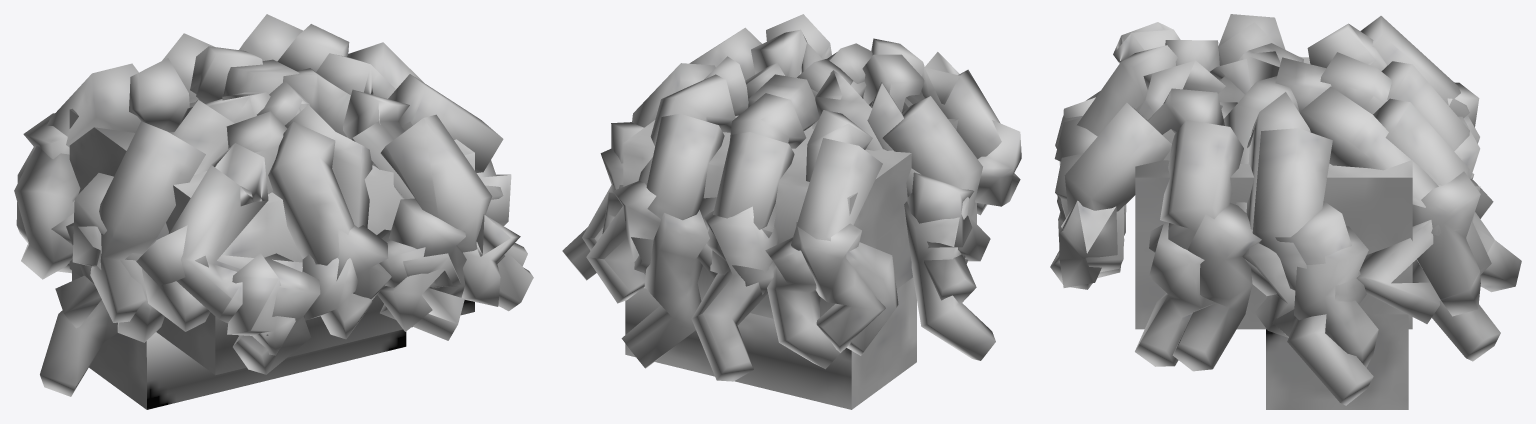
Rendered from Head_C1.fbx.
3 renders of one model, left to right at view 1: azimuth 30°, elevation 25°; view 2: azimuth 150°, elevation 25°; view 3: azimuth 270°, elevation 25°, orthographic. The views are drawn at different scales.
Parts seen in each view (by area): view 1: Civ_Rulos_Head_C1; view 2: Civ_Rulos_Head_C1; view 3: Civ_Rulos_Head_C1.
Part boxes in pixels (x1,y1,x2,y2): Civ_Rulos_Head_C1: (14, 14, 533, 409); Civ_Rulos_Head_C1: (562, 14, 1021, 409); Civ_Rulos_Head_C1: (1050, 14, 1521, 409).
Bounding box in the file's own units: 2.17 × 1.38 × 2.04.
